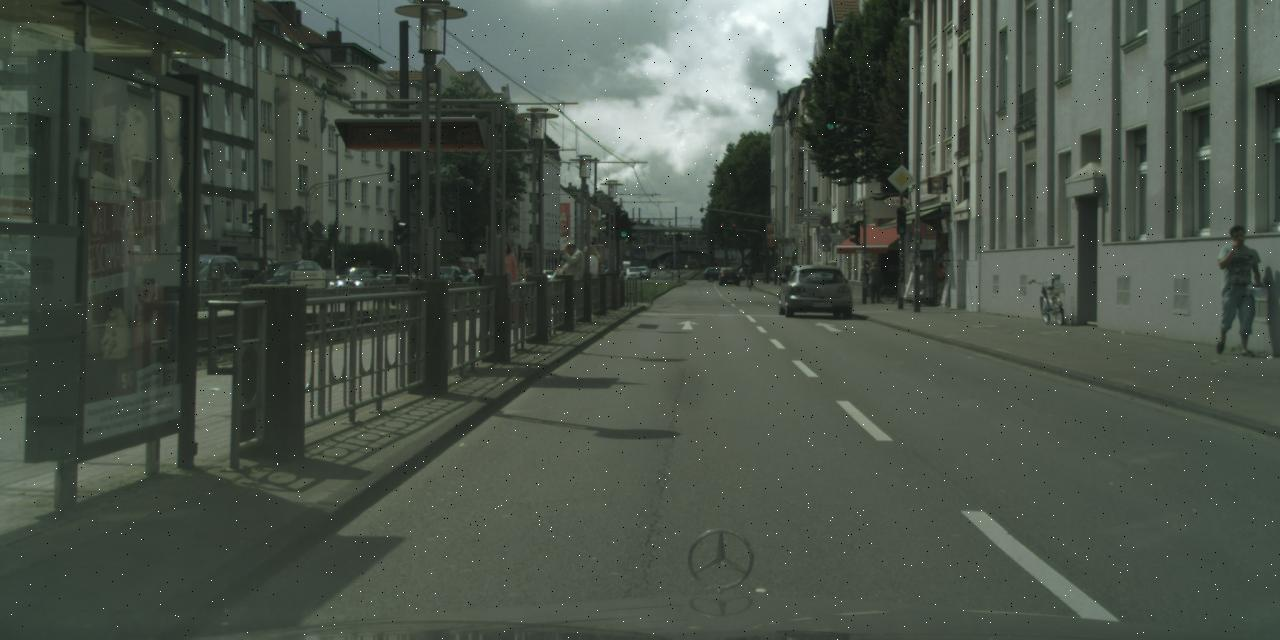ped: (1209, 224, 1260, 350), (485, 239, 519, 323), (556, 241, 580, 274), (866, 260, 883, 302), (857, 260, 872, 296), (591, 246, 601, 274), (363, 260, 373, 284), (761, 258, 771, 282), (744, 263, 754, 285), (477, 265, 484, 284)
